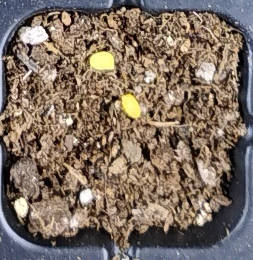pepper seed: (50, 33, 193, 153), (31, 15, 147, 85)
